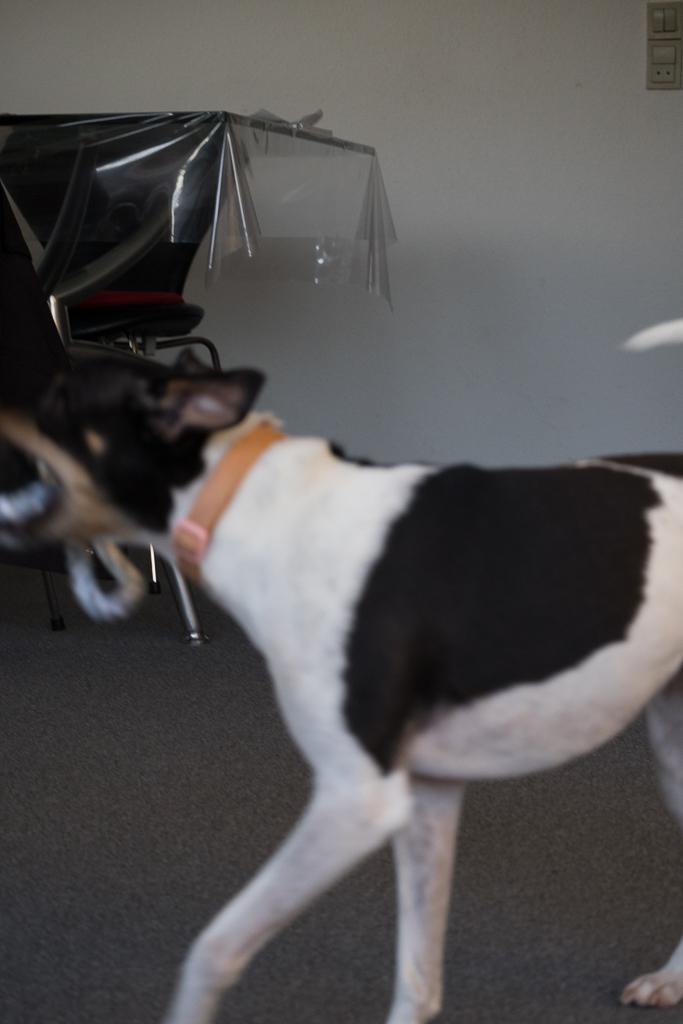Dog: (0, 303, 683, 1024)
